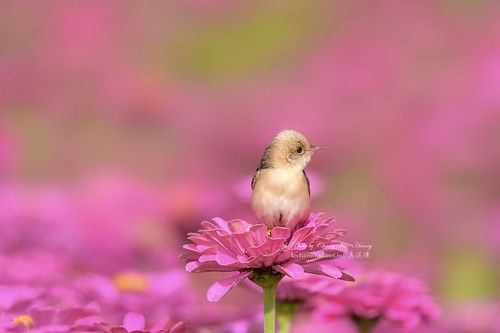animal: (224, 120, 343, 246)
flowers: (22, 214, 465, 333)
